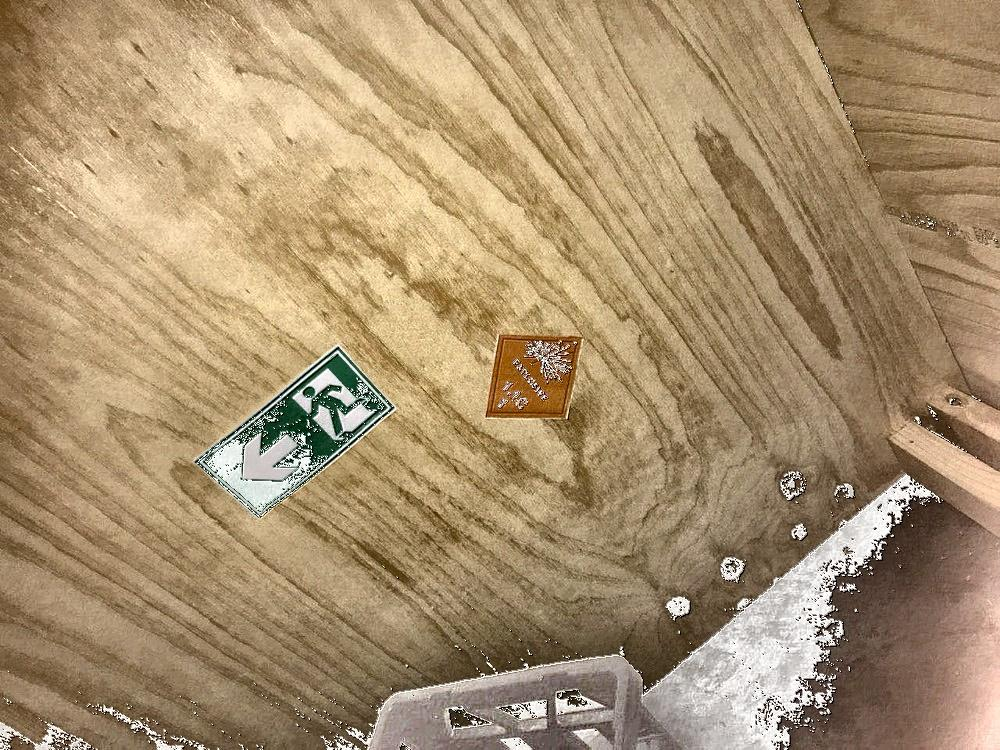explosive: (485, 336, 580, 420)
